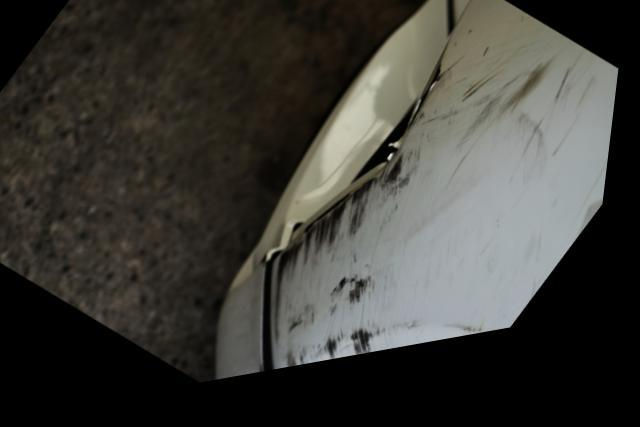scratch: (275, 66, 623, 382)
